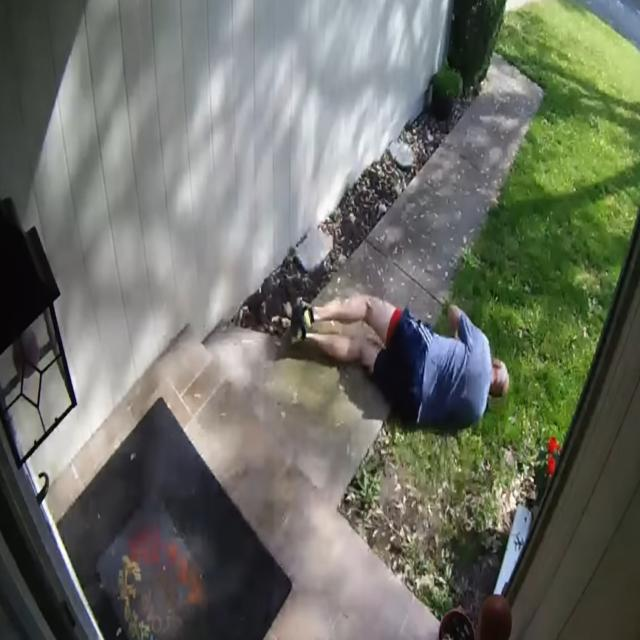fallen: (291, 295, 510, 429)
